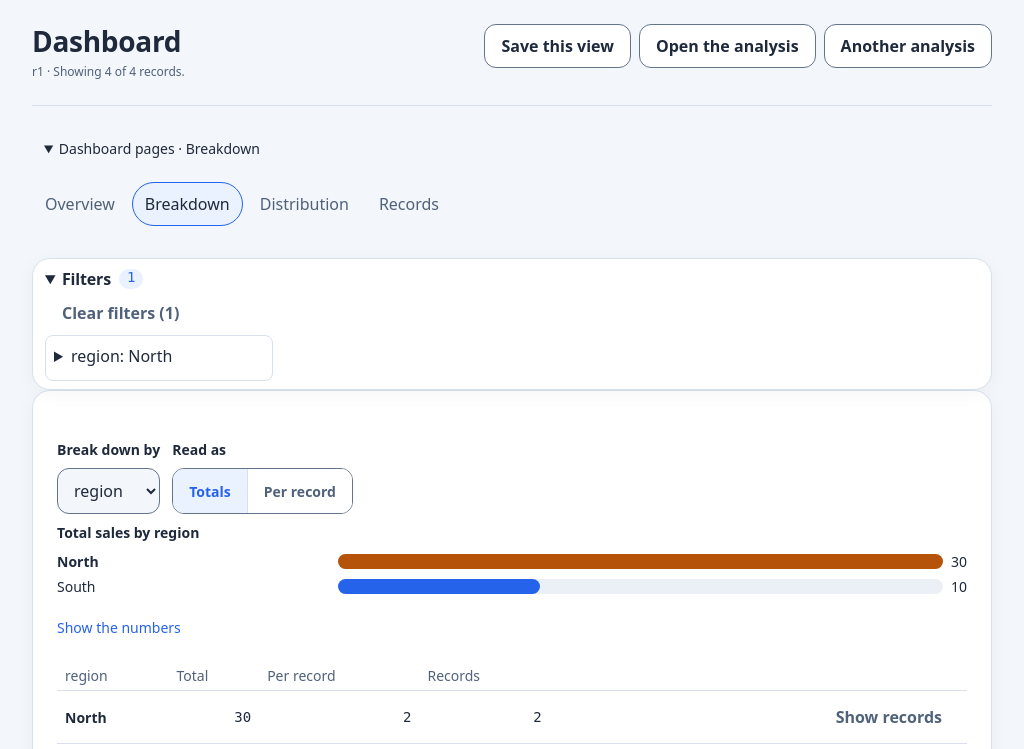
Test: saving and forgetting a view go to the server and are confirmed
Click the button "Save this view" at (558, 46), box top-left (484, 24), bottom-right (631, 68)
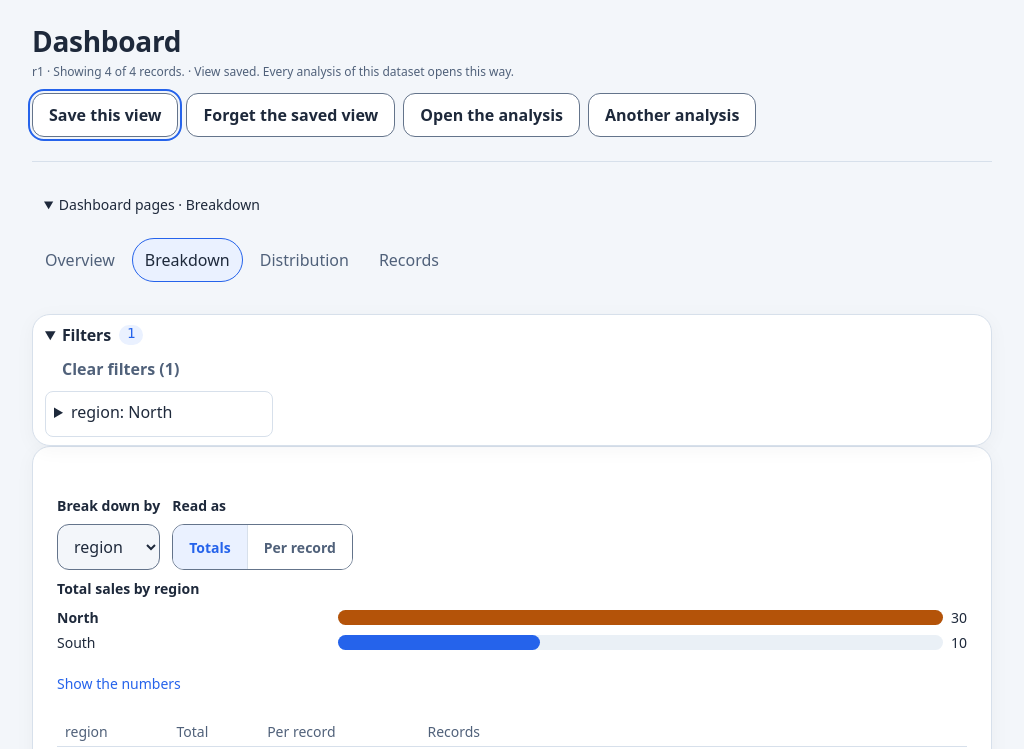
Check: the text "View saved. Every analysis of this dataset opens this way." is shown, box top-left (194, 63), bottom-right (514, 80)
Click the button "Forget the saved view" at (291, 115), box top-left (186, 93), bottom-right (395, 137)
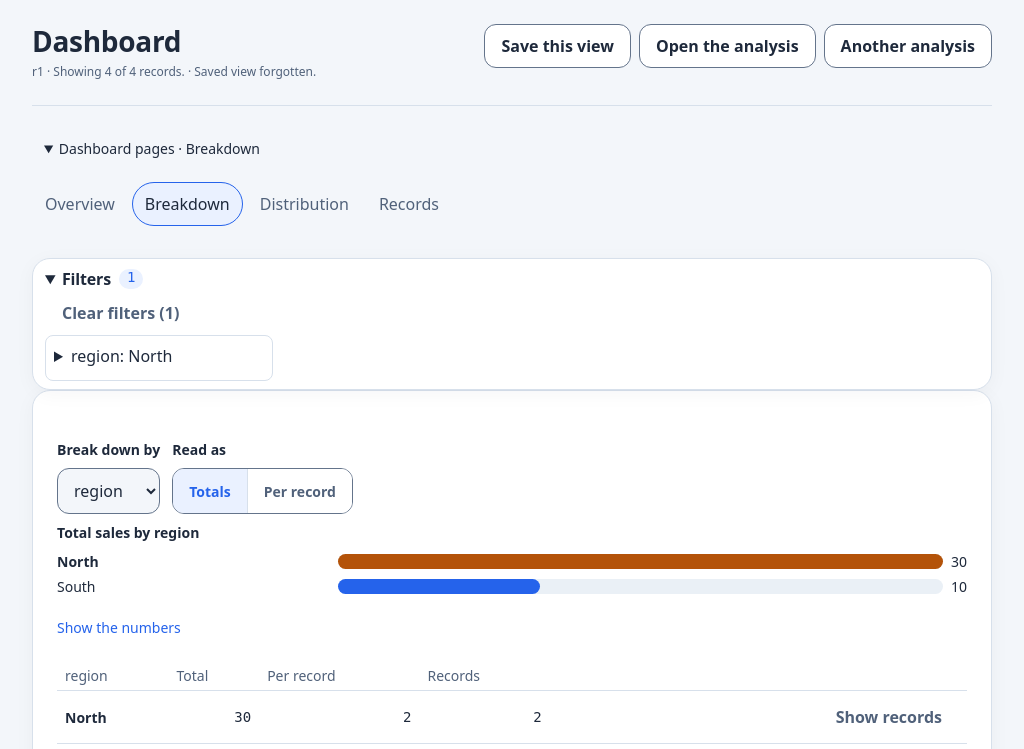
Check: the text "Saved view forgotten." is shown, box top-left (194, 63), bottom-right (316, 80)
Check: the button "Forget the saved view" is gone
